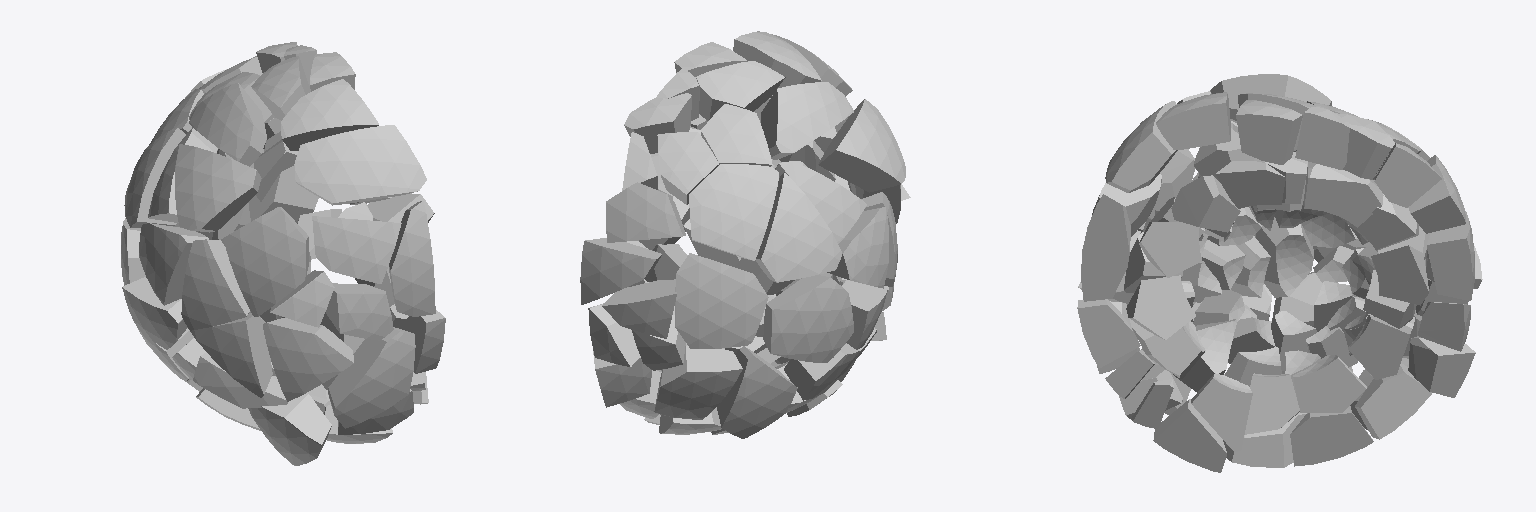
The model's file is shatter_3.obj.
The picture shows the model from 3 angles: view 1: azimuth 30°, elevation 25°; view 2: azimuth 150°, elevation 25°; view 3: azimuth 270°, elevation 25°; orthographic projection.
Bounding box in the file's own units: 15.3 × 22.79 × 22.94.